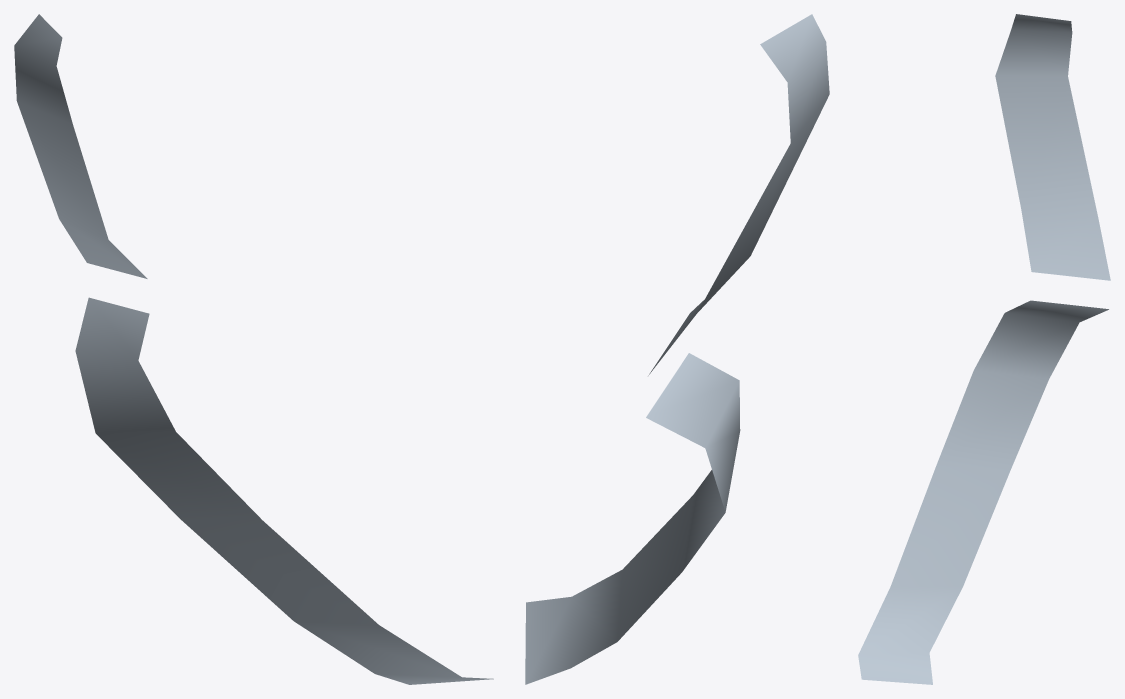
Rendered from deep-part-of-tibial-collateral-ligament-l.glb.
3 views of the same model, side by side, from view 1: azimuth 30°, elevation 25°; view 2: azimuth 150°, elevation 25°; view 3: azimuth 270°, elevation 25° (orthographic). The views are drawn at different scales.
Visible parts, largest first — view 1: Deep part of tibial collateral ligament.l; view 2: Deep part of tibial collateral ligament.l; view 3: Deep part of tibial collateral ligament.l.
Boxes of the visible parts, box(x1,y1,x2,y2) form: Deep part of tibial collateral ligament.l: box(14, 14, 493, 684); Deep part of tibial collateral ligament.l: box(525, 14, 829, 684); Deep part of tibial collateral ligament.l: box(858, 14, 1110, 684).
Size of the model in its own units: 0.0339 by 0.0626 by 0.0259.
